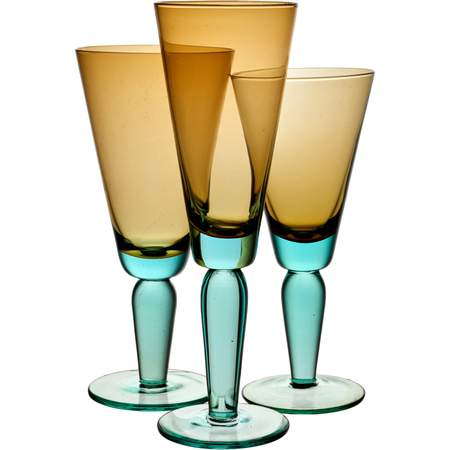Nonrec_Glass: (151, 1, 297, 448), (66, 39, 227, 408), (228, 54, 373, 416)
